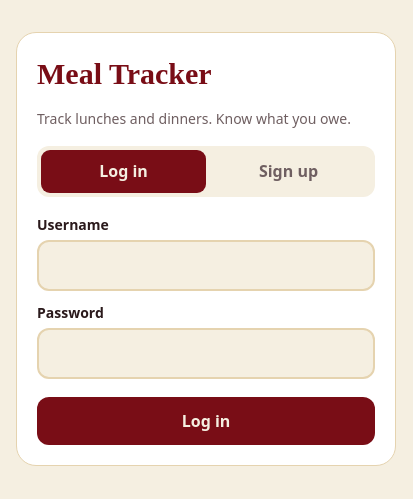
it: failed login shows the generic error message from the server
Step 1. Type "carl" into the field labelled "Username" → [206, 266], box [37, 240, 375, 291]
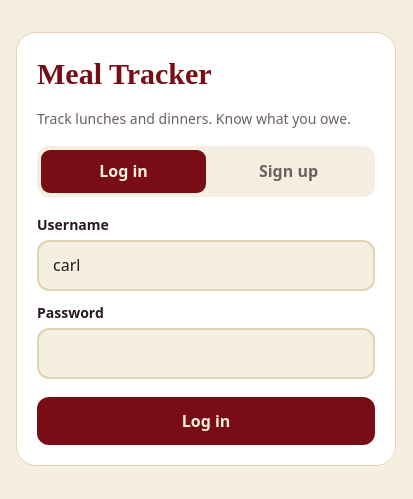
Step 2. Type "secret123" into the password field labelled "Password" → [206, 354], box [37, 328, 375, 379]
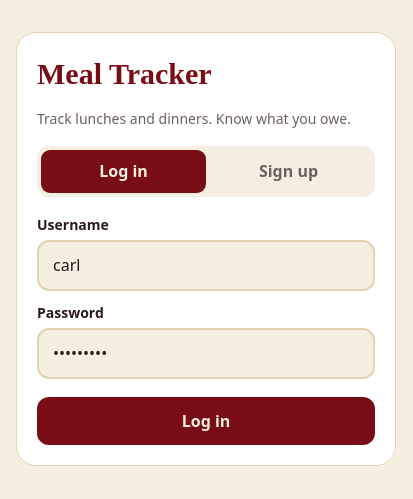
Step 3. Click the button "Log in" → [206, 421], box [37, 397, 375, 445]
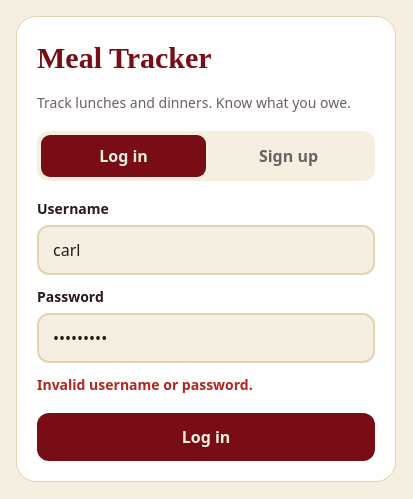
Expected: the message reads "Invalid username or password.", [37, 375, 253, 394]
